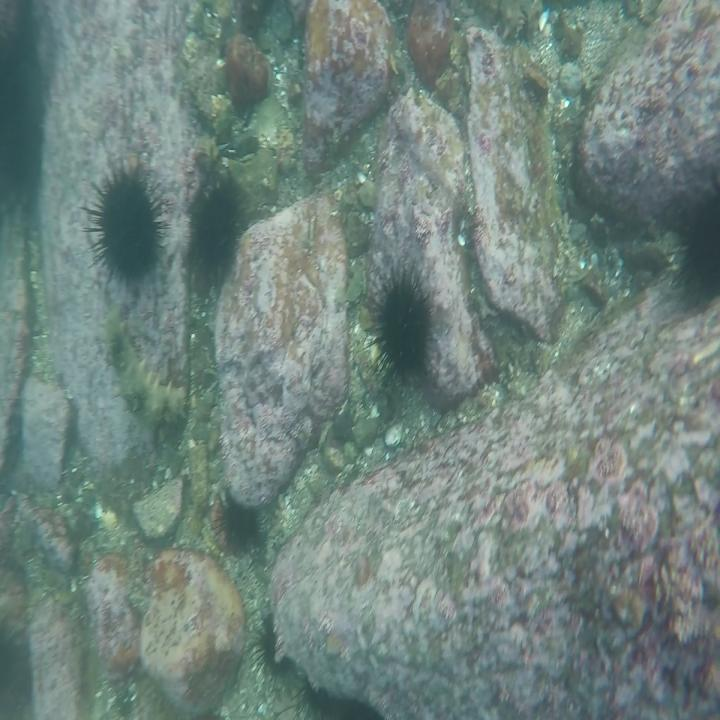echinus: (81, 165, 167, 283), (359, 271, 436, 379), (184, 170, 244, 274), (672, 172, 720, 298), (302, 669, 378, 720), (214, 483, 266, 555), (252, 609, 295, 681)
